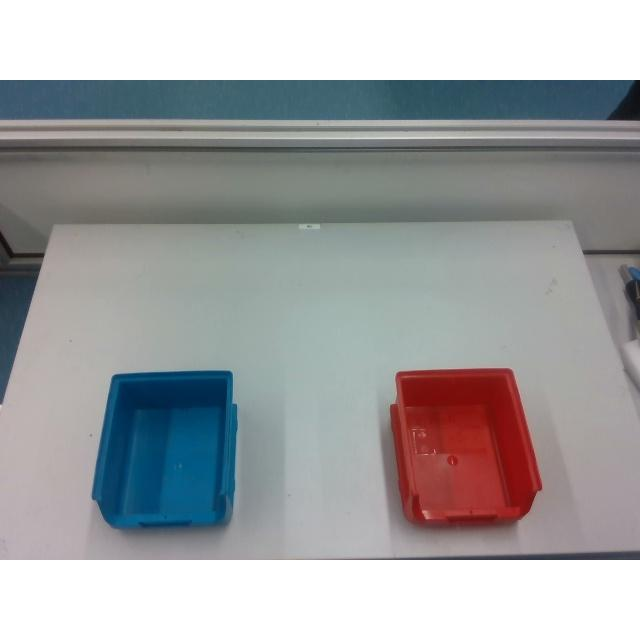container_box_blue: (90, 368, 238, 528)
container_box_red: (391, 369, 545, 527)
